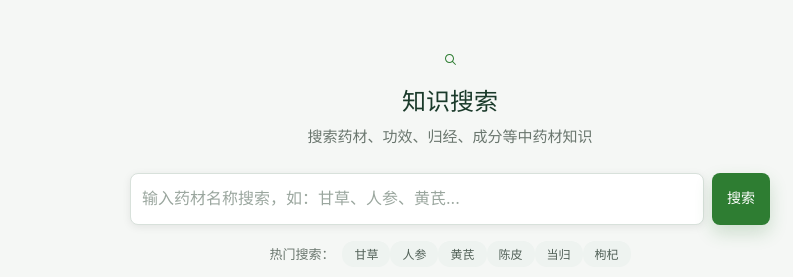
SearchPage › searches herbs and renders result cards
Type "人参" into the field with placeholder "输入药材名称搜索，如：甘草、人参、黄芪...".
click(417, 199); type("人参")  # box x1=130 y1=173 x2=704 y2=225
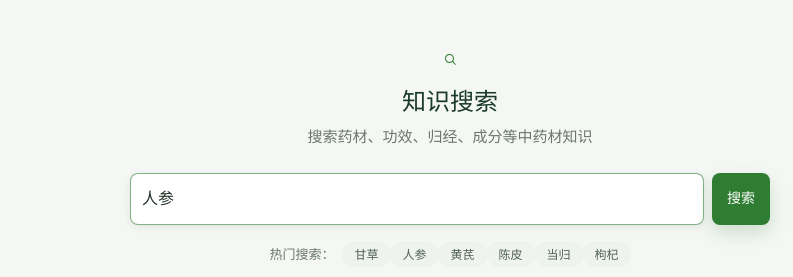
Click the button "搜索".
click(741, 199)  # box x1=712 y1=173 x2=770 y2=225
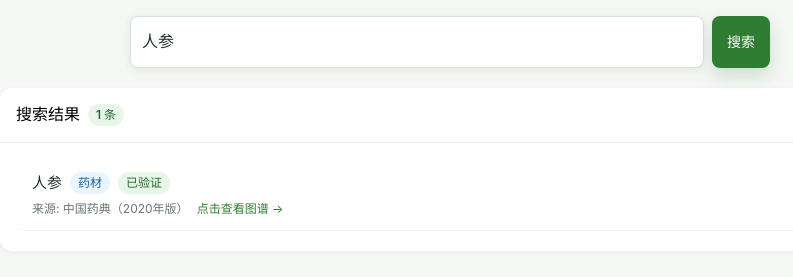
Expected: the text "人参" is shown, x1=32 y1=171 x2=62 y2=195
Now the text "来源: 中国药典（2020年版）" is shown, box x1=32 y1=199 x2=189 y2=218
